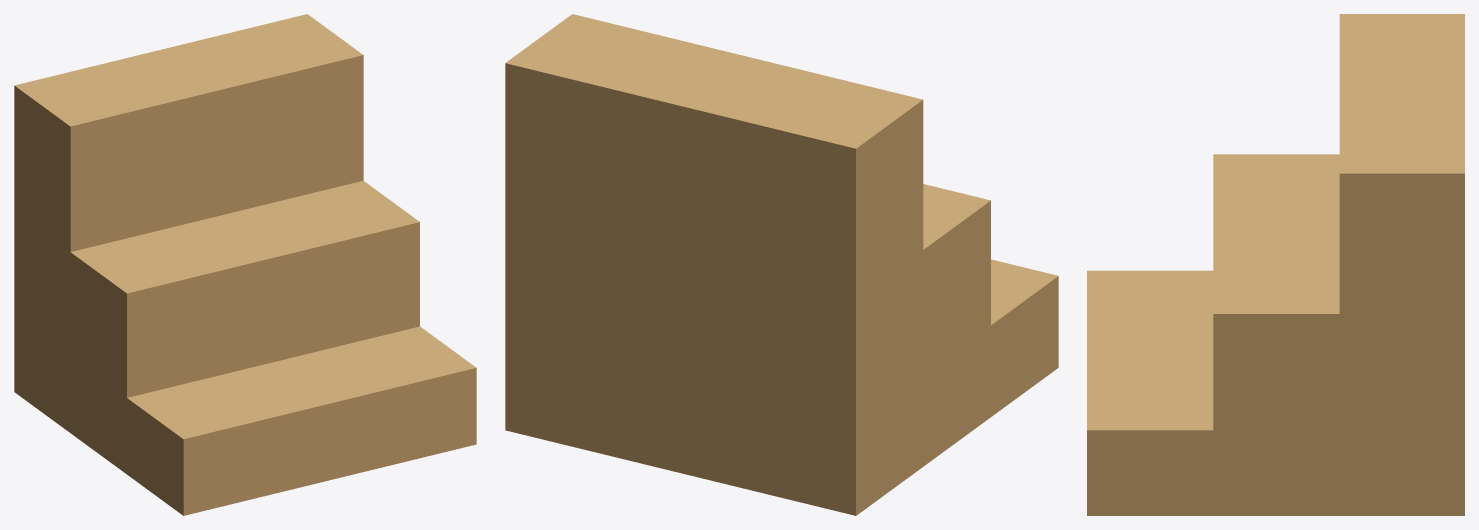
File: ST_Env_BackgroundEdge_01.fbx
3 renders of one model, left to right at view 1: azimuth 30°, elevation 25°; view 2: azimuth 150°, elevation 25°; view 3: azimuth 270°, elevation 25°, orthographic. The views are drawn at different scales.
Parts seen in each view (by area): view 1: ST_Env_BackgroundEdge_01; view 2: ST_Env_BackgroundEdge_01; view 3: ST_Env_BackgroundEdge_01.
Boxes of the visible parts, left/top/right/bottom form: ST_Env_BackgroundEdge_01: left=14, top=14, right=476, bottom=515; ST_Env_BackgroundEdge_01: left=505, top=14, right=1058, bottom=515; ST_Env_BackgroundEdge_01: left=1087, top=14, right=1464, bottom=515.
Bounding box in the file's own units: 10 × 10 × 10.
